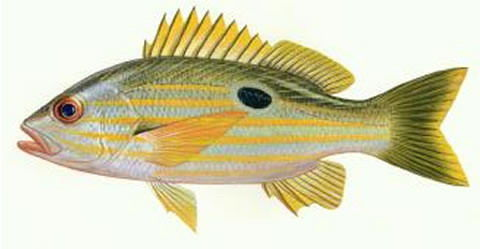fish: (17, 6, 471, 234)
